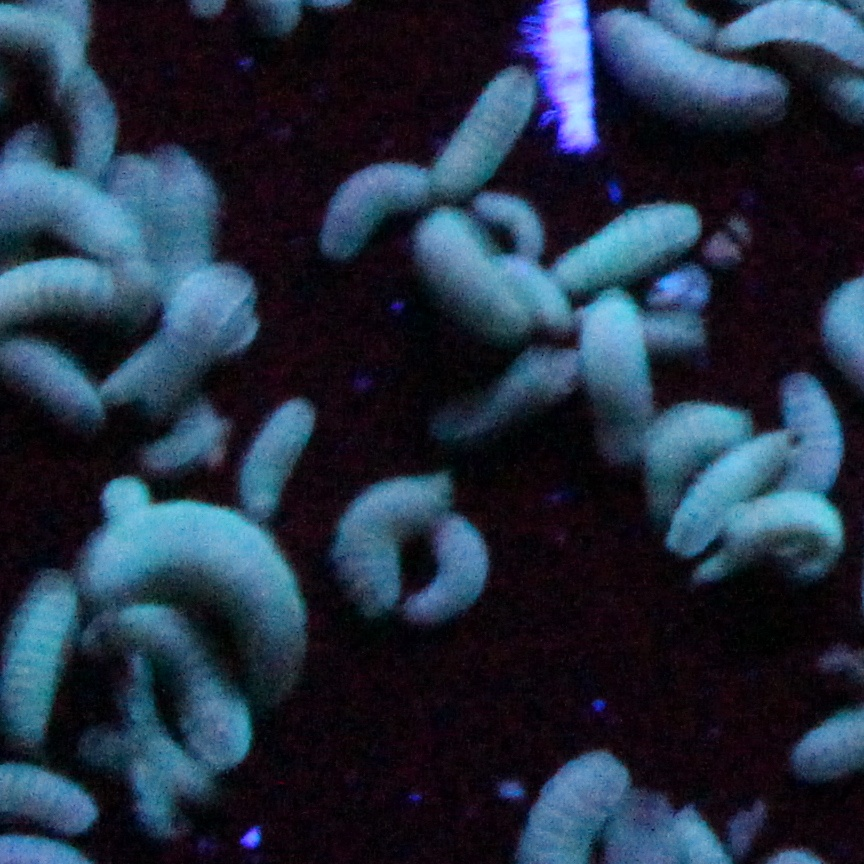larve: (85, 495, 318, 700), (97, 598, 249, 769), (589, 0, 785, 126), (108, 262, 260, 414), (664, 423, 810, 561), (326, 462, 453, 614), (400, 212, 530, 334), (427, 59, 539, 199), (570, 288, 656, 464), (556, 197, 710, 293), (310, 149, 434, 261), (234, 386, 323, 524), (419, 508, 487, 630)
